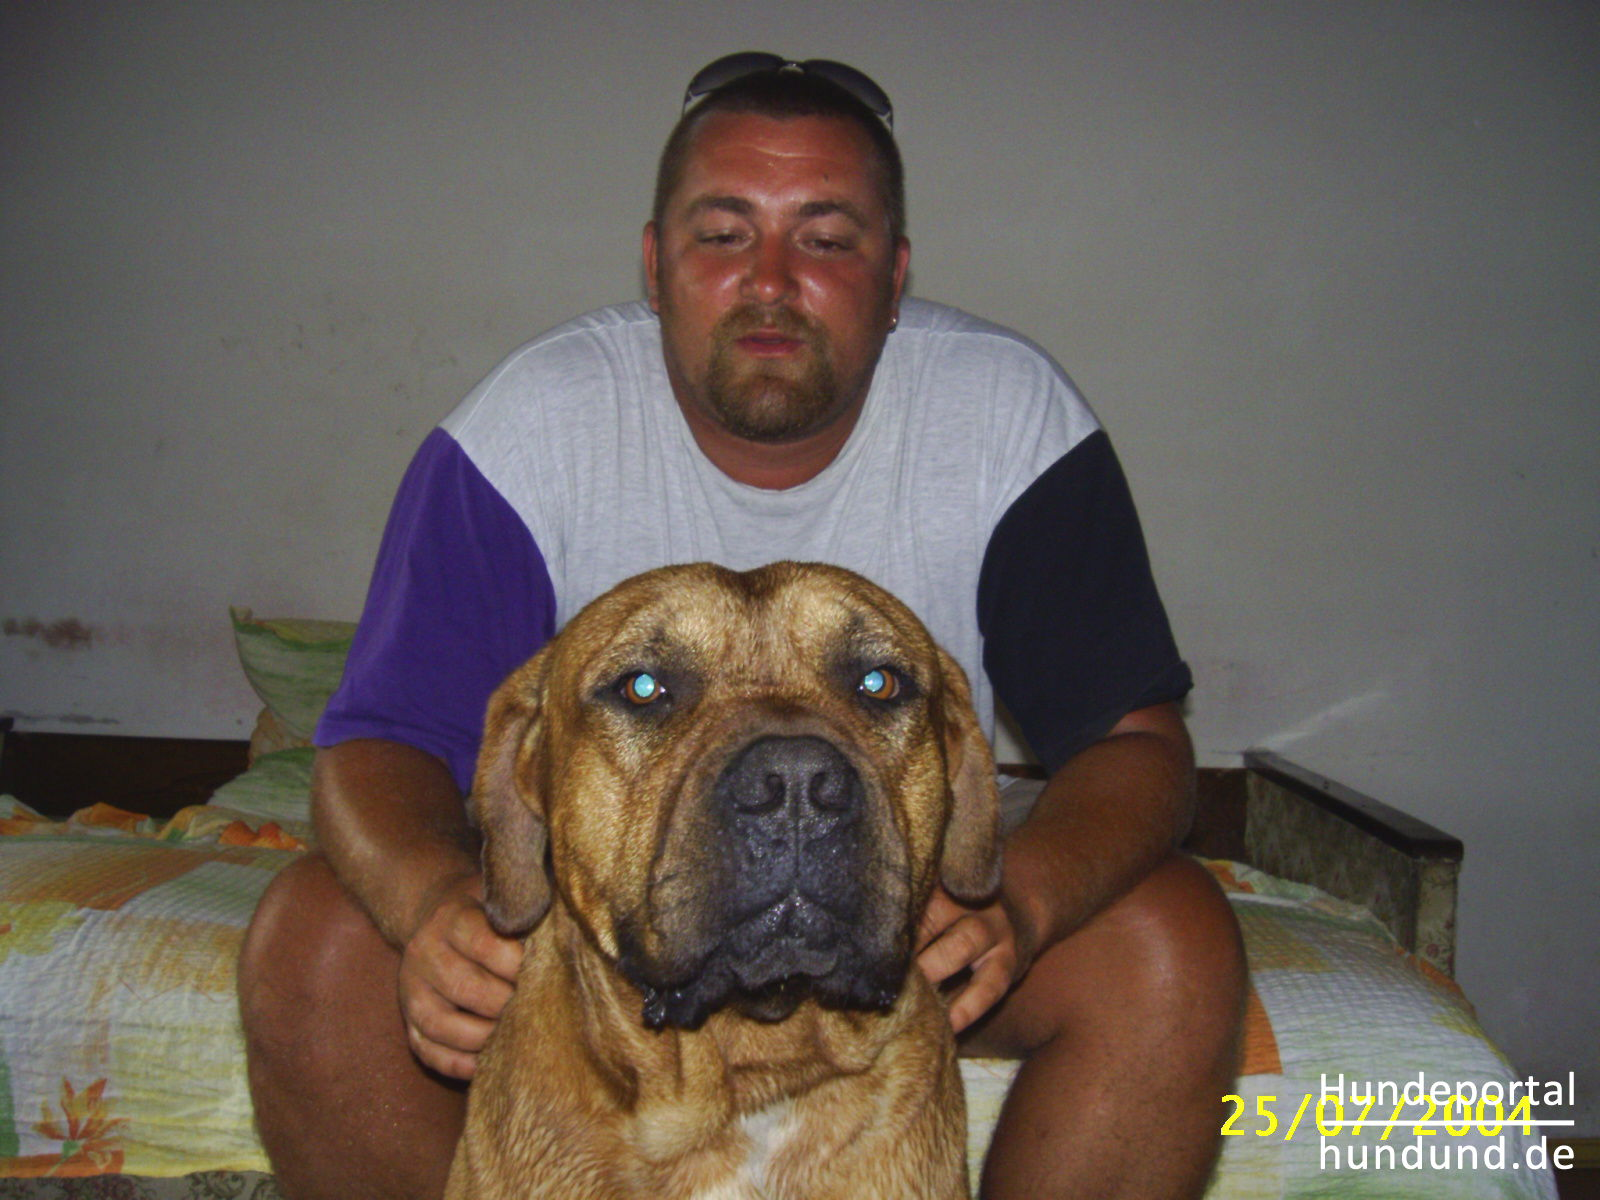human_face: (636, 115, 911, 450)
person: (234, 45, 1252, 1200)
tosa_inu: (441, 555, 1001, 1200)
